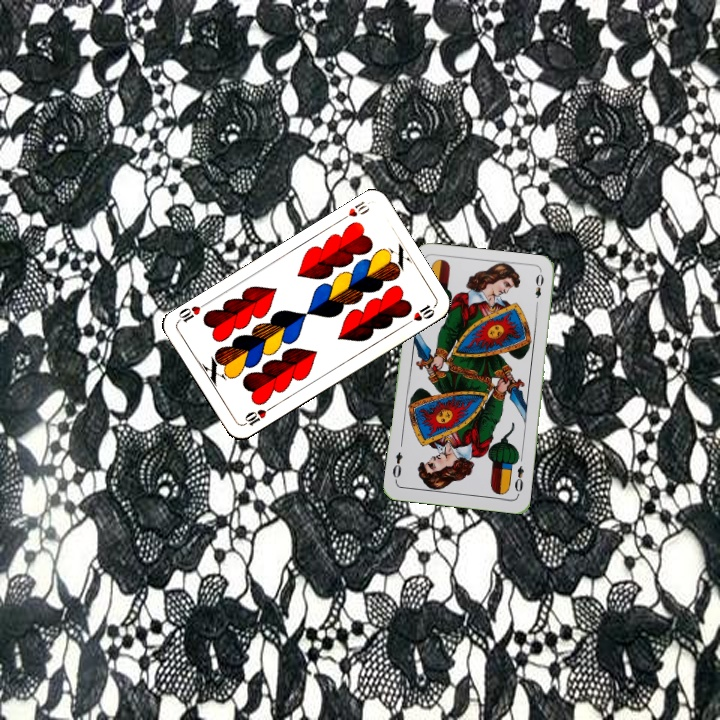EO: (511, 462, 527, 498)
H10: (239, 402, 276, 429), (335, 197, 372, 224)
